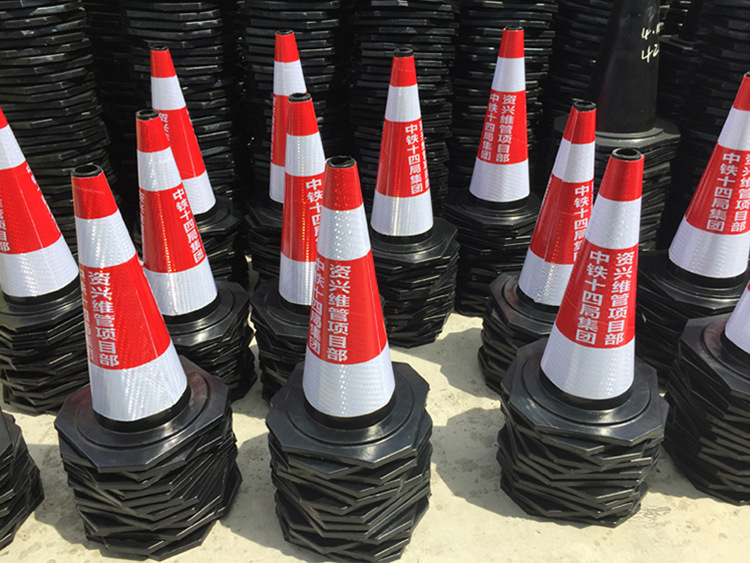traffic_cone: (241, 153, 474, 473), (26, 149, 227, 477), (503, 143, 672, 450), (98, 107, 247, 347), (331, 33, 468, 288), (1, 101, 95, 345), (472, 19, 554, 231)
